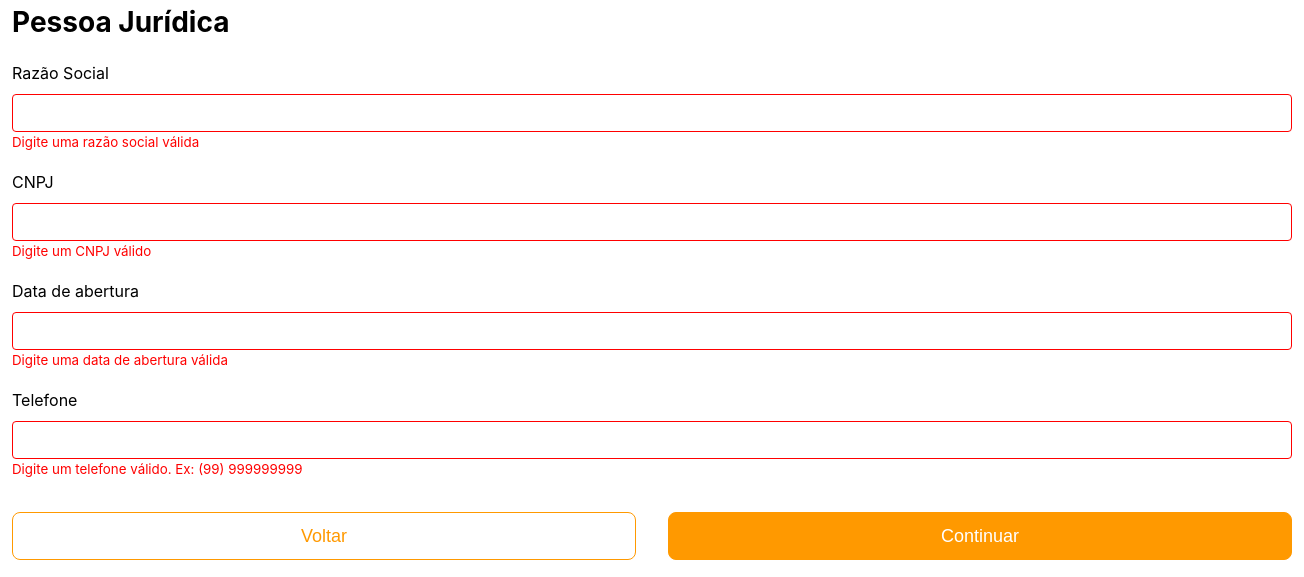
Test case: FormPerson - Pessoa juridica › should validate CNPJ is valid
Type "Frontend Dev tester" into the field with id "name". click: (652, 113)
box: [12,94,1292,132]
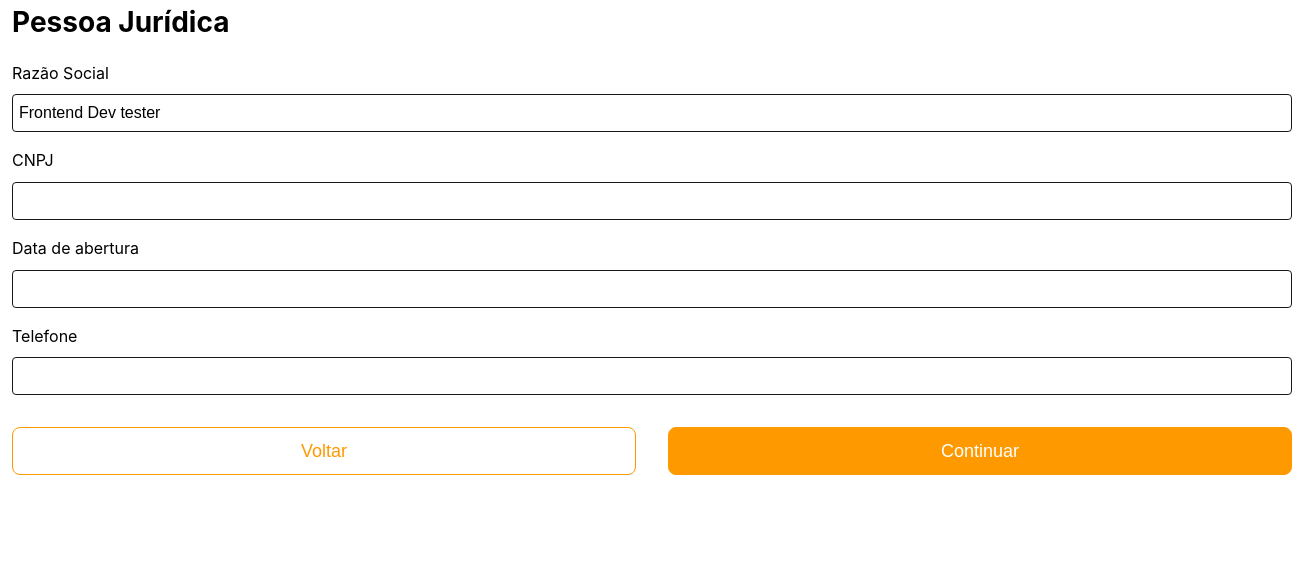
Type "14041995" into the field with id "birth_date". click: (652, 289)
box: [12,270,1292,308]
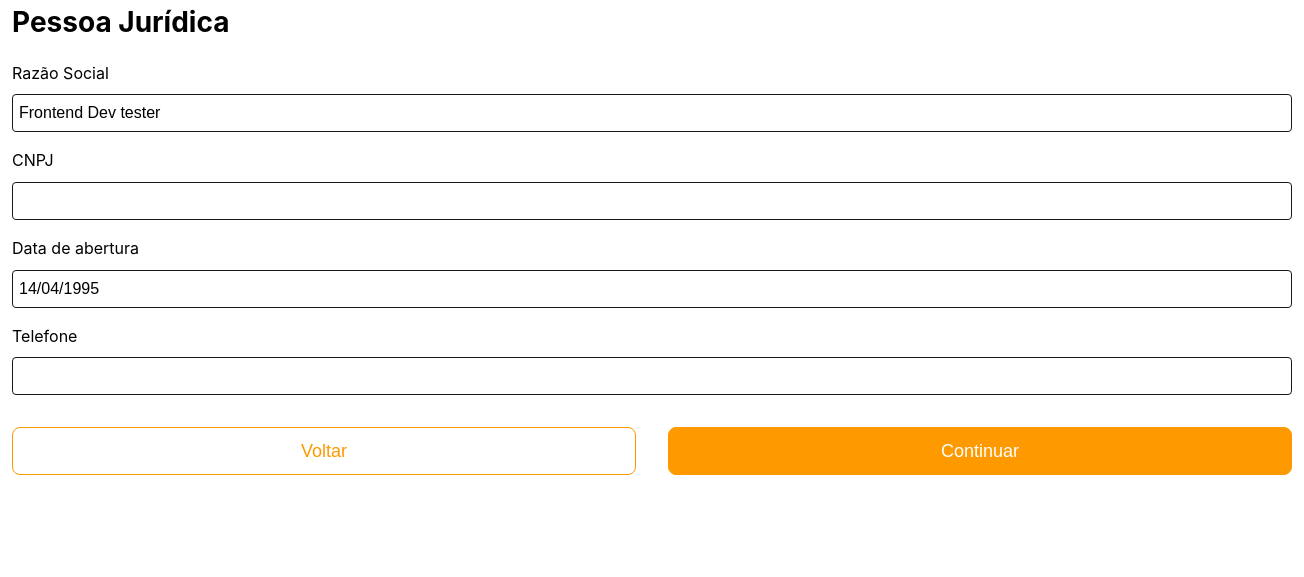
Type "182134340001" into the field with id "document". click: (652, 201)
box: [12,182,1292,220]
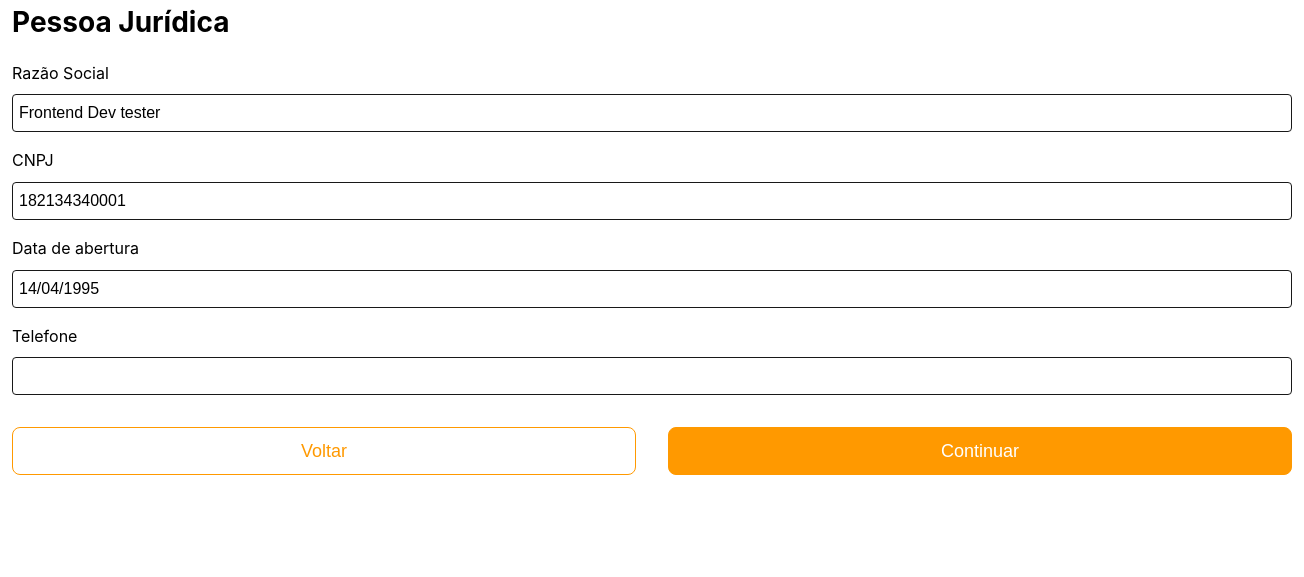
Type "75981535971" into the field below "Telefone". click: (652, 376)
box: [12,357,1292,395]
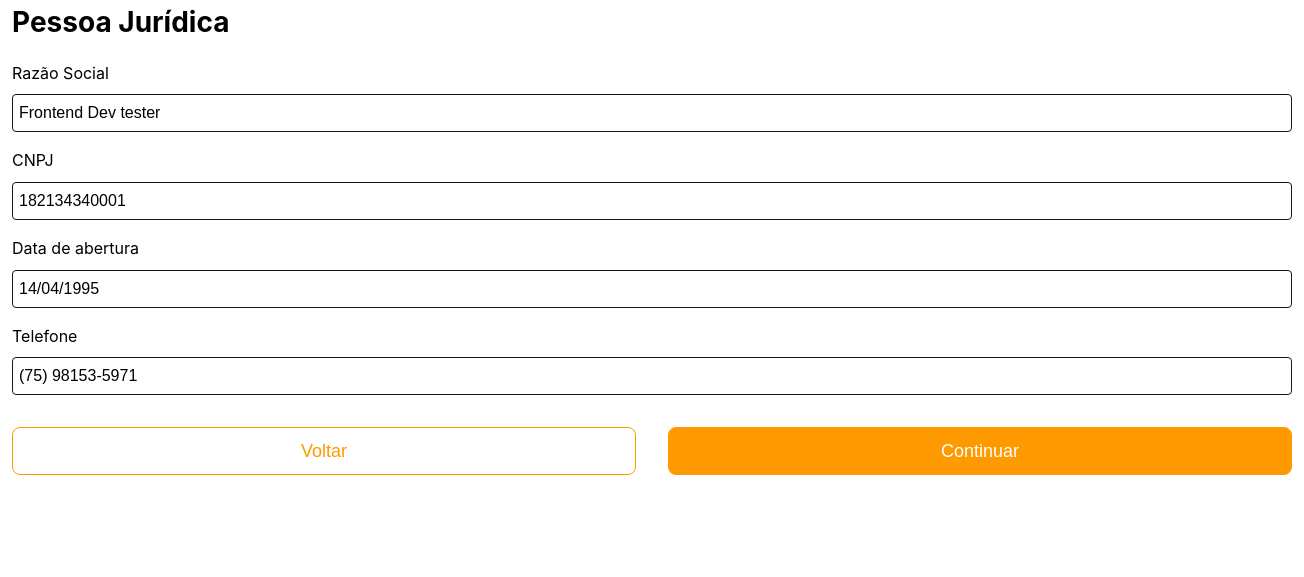
Submit the form
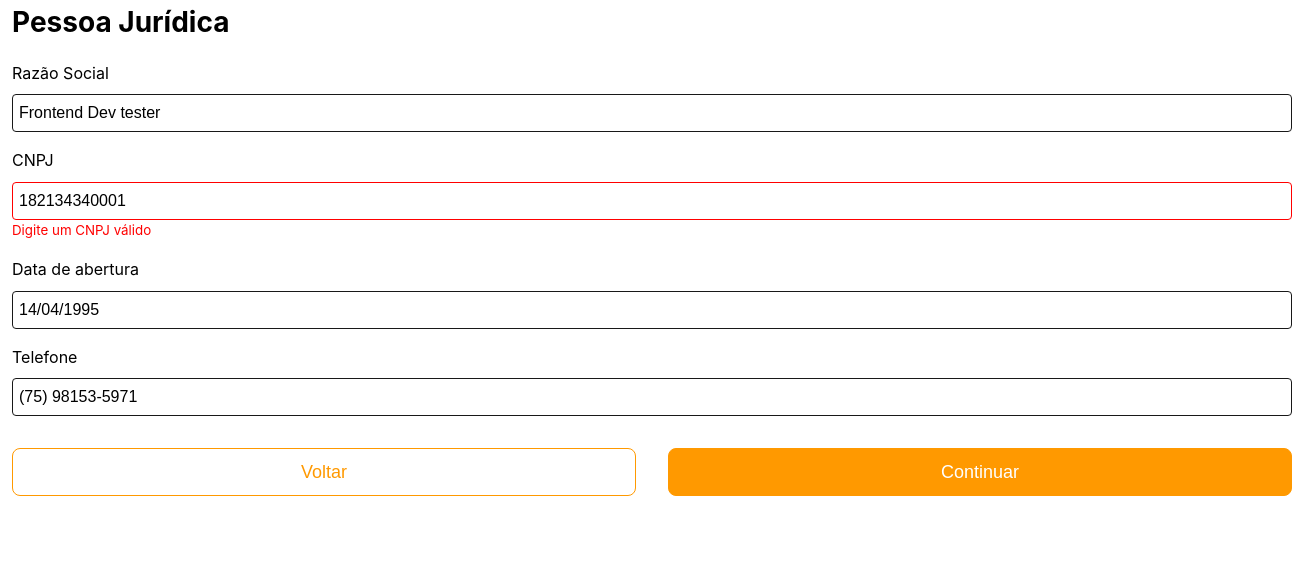
Expected: the form shows "Digite um CNPJ válido", [12,222,151,238]
